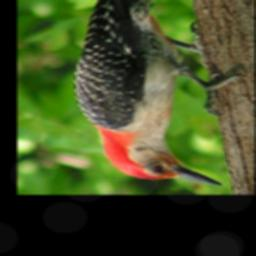Woodpecker: (72, 0, 248, 186)
